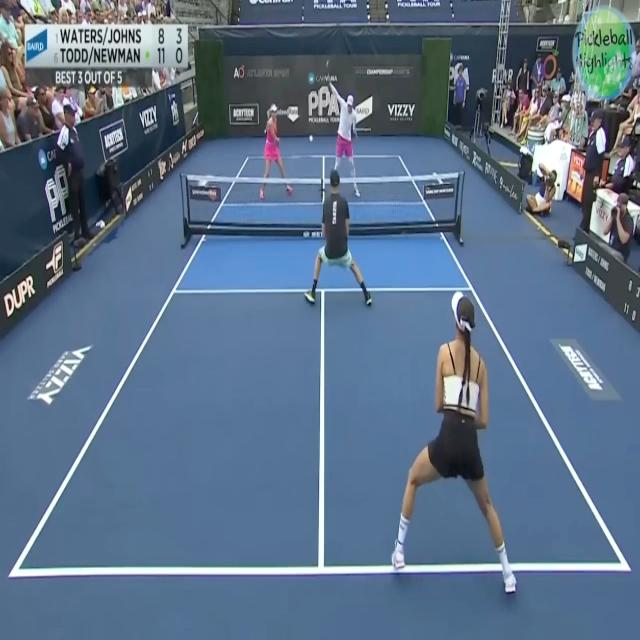Pickleball: (308, 132, 313, 144)
